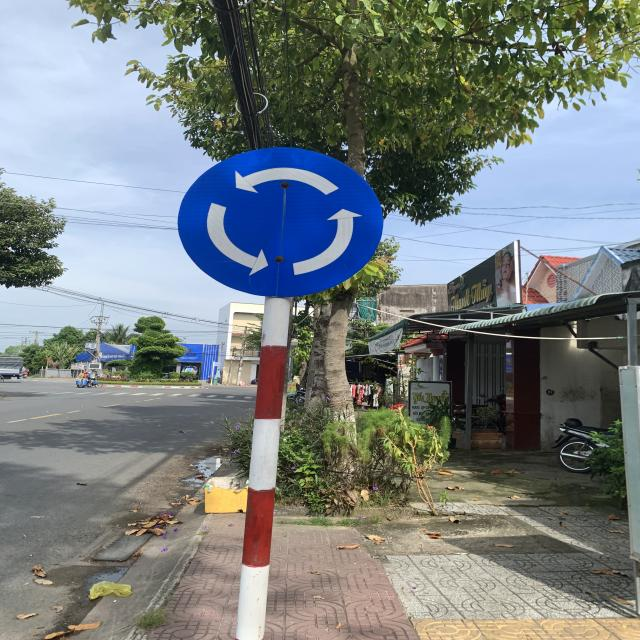Xe_Bus: (176, 144, 386, 296)
